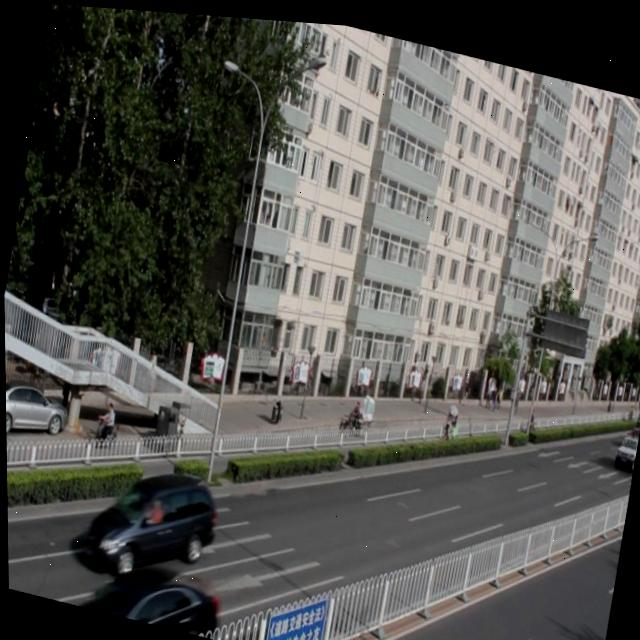car: (78, 448, 221, 588), (50, 538, 220, 636)
